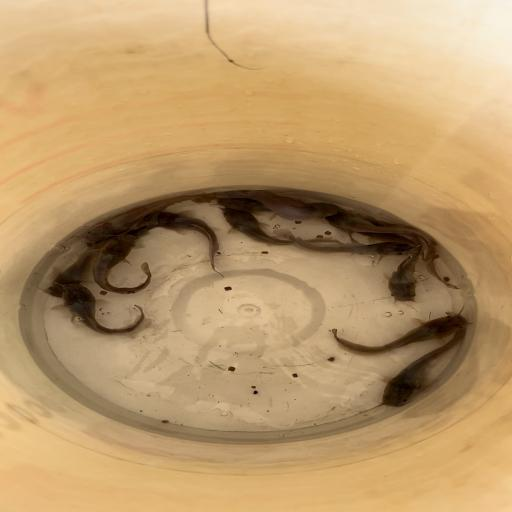lele: (371, 310, 467, 412), (329, 307, 470, 360), (82, 192, 211, 243), (322, 205, 438, 254), (151, 210, 227, 278), (215, 208, 343, 247), (193, 190, 341, 221), (58, 284, 146, 336), (272, 227, 414, 257), (43, 241, 112, 300), (89, 234, 152, 294), (352, 212, 429, 259), (383, 237, 421, 304), (210, 196, 290, 214)
